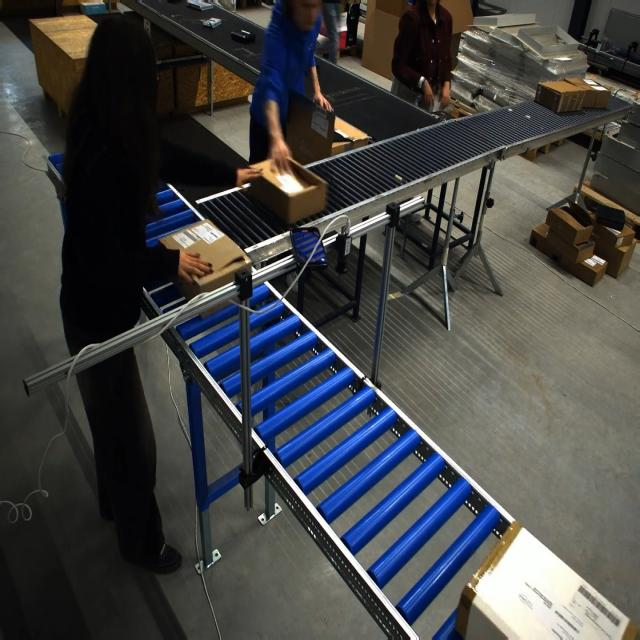box: (453, 523, 640, 639), (157, 219, 251, 302), (247, 156, 325, 226)
product: (230, 29, 255, 43), (186, 0, 214, 11), (200, 17, 222, 29)
